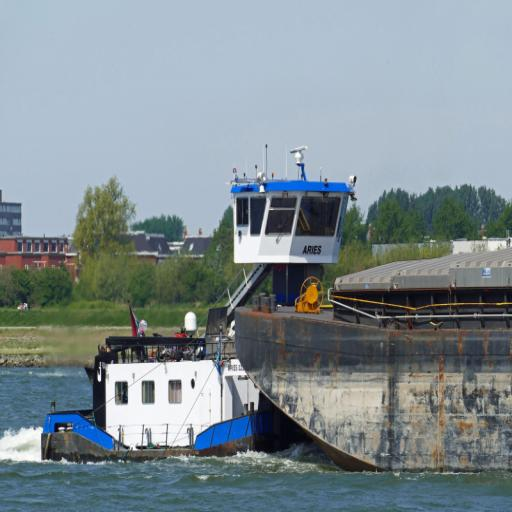tugboat: (40, 142, 388, 469)
